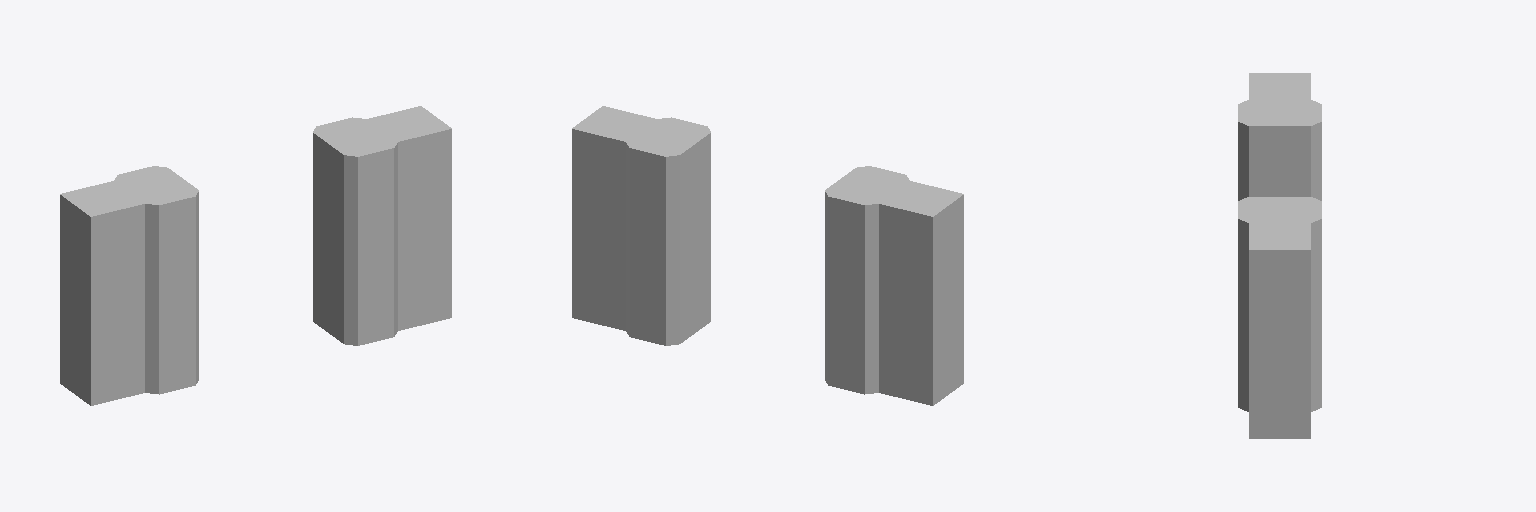
The model's file is struct_wall_big_door_lower.obj.
3 views of the same model, side by side, from view 1: azimuth 30°, elevation 25°; view 2: azimuth 150°, elevation 25°; view 3: azimuth 270°, elevation 25° (orthographic).
Visible parts, largest first — view 1: struct_wall_big_door_lower_4, struct_wall_big_door_lower, struct_wall_big_door_lower_3, struct_wall_big_door_lower_2; view 2: struct_wall_big_door_lower_4, struct_wall_big_door_lower, struct_wall_big_door_lower_3, struct_wall_big_door_lower_2; view 3: struct_wall_big_door_lower_2, struct_wall_big_door_lower_3, struct_wall_big_door_lower_4, struct_wall_big_door_lower.
Part boxes in pixels (x1,y1,x2,y2): struct_wall_big_door_lower_4: (313,117,397,345); struct_wall_big_door_lower: (60,181,144,405); struct_wall_big_door_lower_3: (114,166,198,394); struct_wall_big_door_lower_2: (368,106,451,330); struct_wall_big_door_lower_4: (626,117,710,345); struct_wall_big_door_lower: (879,181,963,405); struct_wall_big_door_lower_3: (825,166,909,394); struct_wall_big_door_lower_2: (572,106,655,330); struct_wall_big_door_lower_2: (1249,223,1310,438); struct_wall_big_door_lower_3: (1238,100,1321,200); struct_wall_big_door_lower_4: (1238,197,1321,411); struct_wall_big_door_lower: (1249,73,1310,99).
Bounding box in the file's own units: 2 × 1 × 0.4.